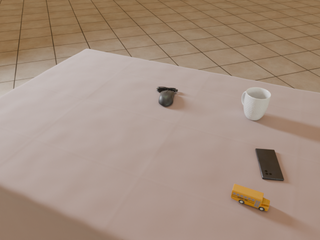cup: (242, 87, 271, 120)
mouse: (156, 87, 178, 106)
phone: (255, 149, 284, 181)
toy_car: (231, 184, 270, 211)
